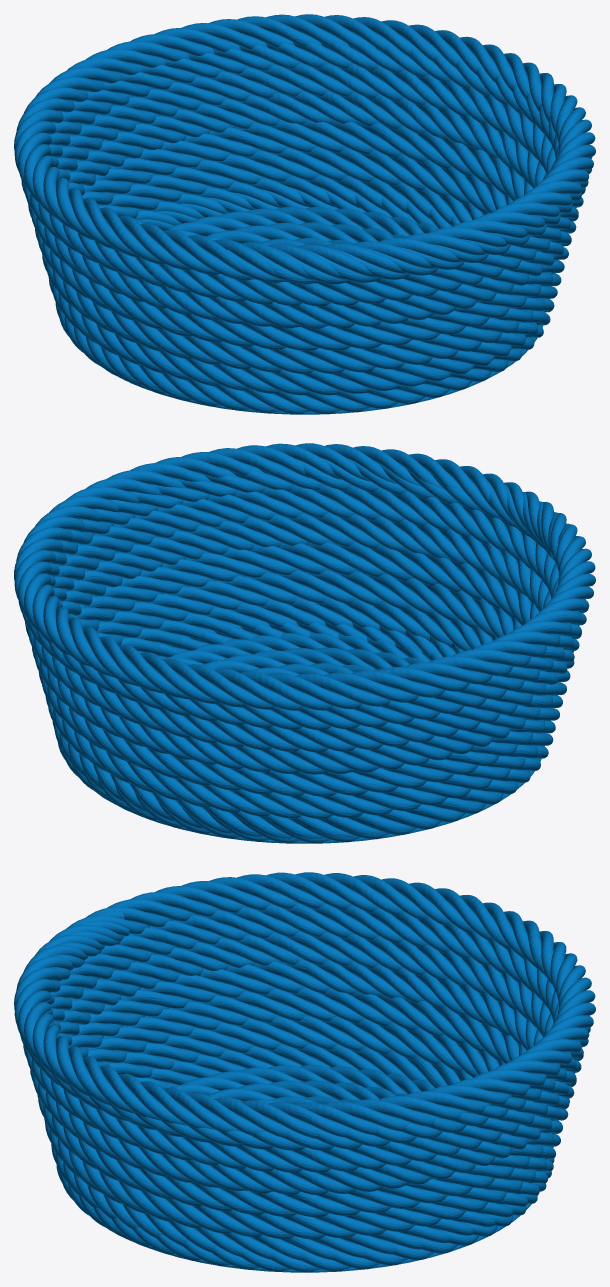
File: rope-bowl.glb
The picture shows the model from 3 angles, top to bottom: view 1: azimuth 30°, elevation 25°; view 2: azimuth 150°, elevation 25°; view 3: azimuth 270°, elevation 25°; orthographic projection.
Visible parts, largest first — view 1: Rope Bowl.stl_fil4; view 2: Rope Bowl.stl_fil4; view 3: Rope Bowl.stl_fil4.
Boxes of the visible parts, x1,y1,x2,y2 form: Rope Bowl.stl_fil4: (14,14,595,414); Rope Bowl.stl_fil4: (14,443,595,843); Rope Bowl.stl_fil4: (14,872,595,1272).
Size of the model in its own units: 0.1261 by 0.0436 by 0.1261.
